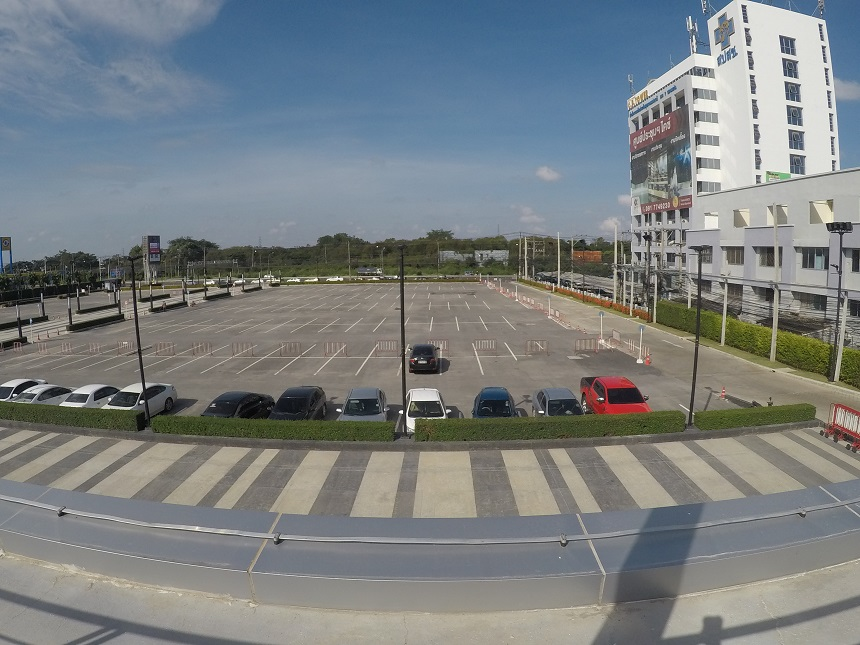busy: (590, 384, 647, 412), (341, 389, 392, 418), (279, 387, 326, 416), (125, 382, 169, 409), (469, 391, 518, 414), (214, 389, 263, 412), (406, 391, 445, 417), (538, 395, 581, 414), (77, 382, 112, 405), (408, 350, 439, 374), (37, 388, 68, 401), (1, 378, 24, 393)
